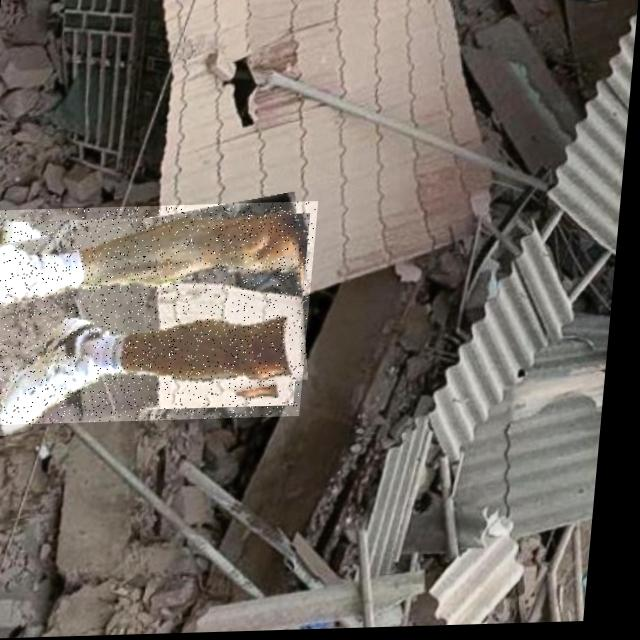Person in Rubble: (0, 203, 321, 426)
